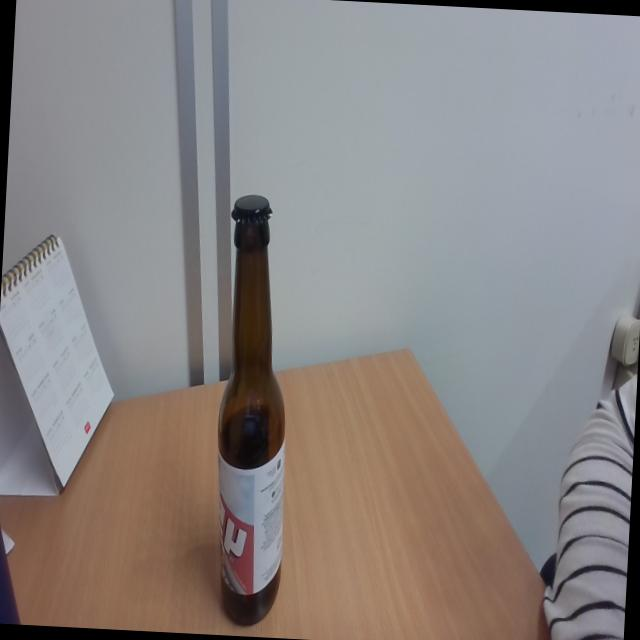Bottle: (206, 187, 302, 628)
Cap: (230, 192, 276, 228)
Label: (212, 454, 286, 595)
